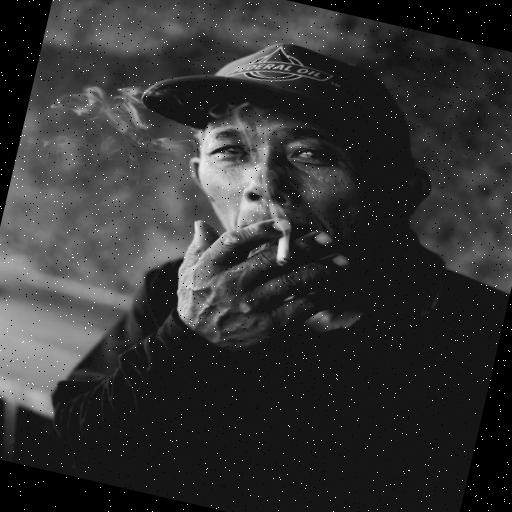dataset-deteksi-merokok: (192, 136, 347, 286)
